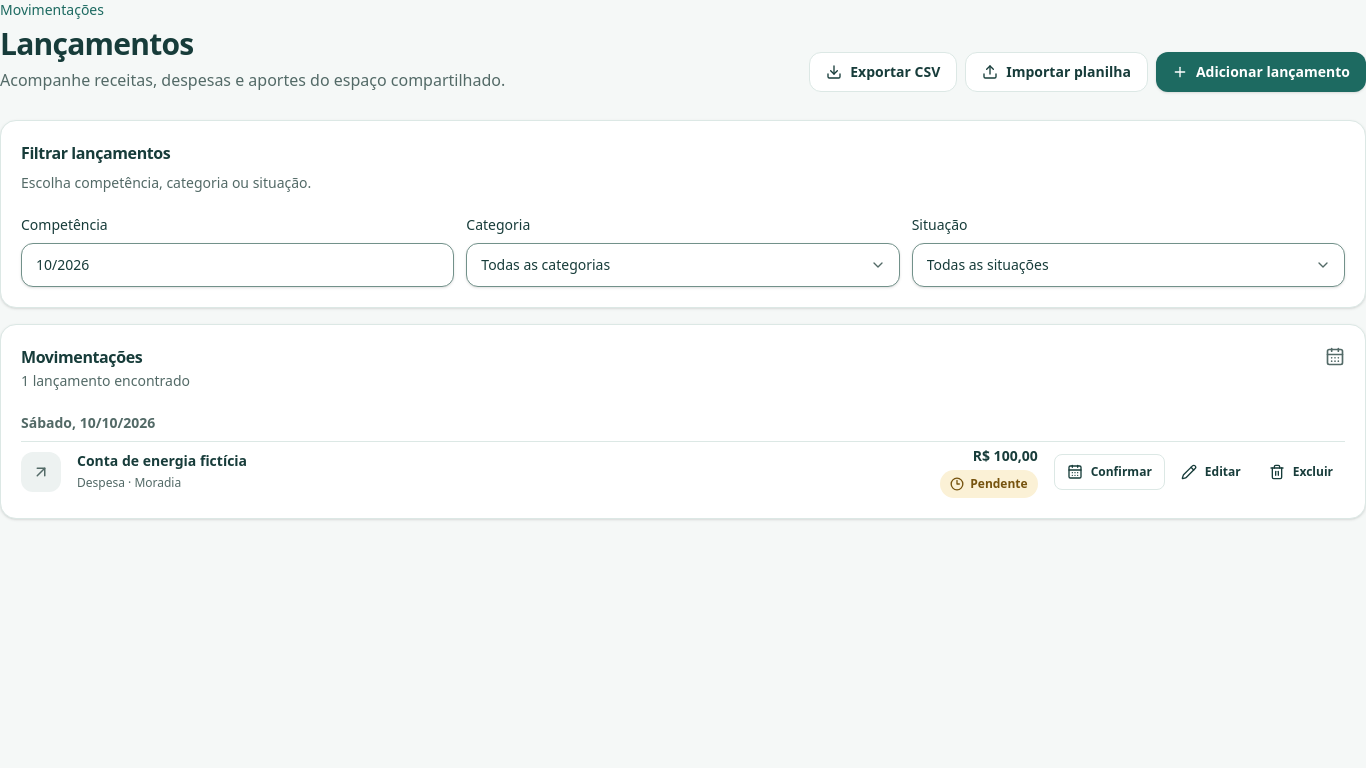
Scenario: entries action feedback › announces a deletion without offering undo, because the original cannot be recreated
Step 1. Click the button with aria-label "Excluir Conta de energia fictícia" → (1301, 472), box [1257,454,1345,490]
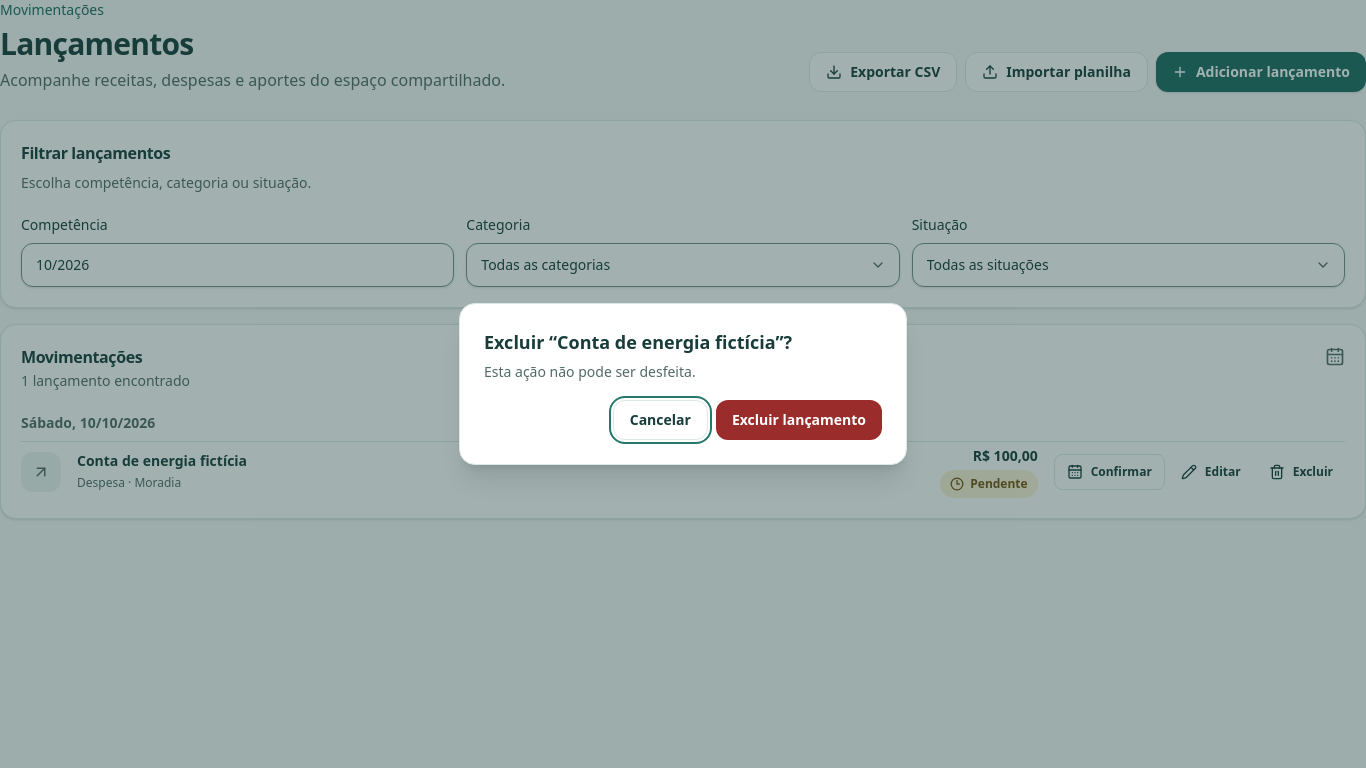
Step 2. Click the button "Excluir lançamento" → (799, 420), box [716,400,882,440]
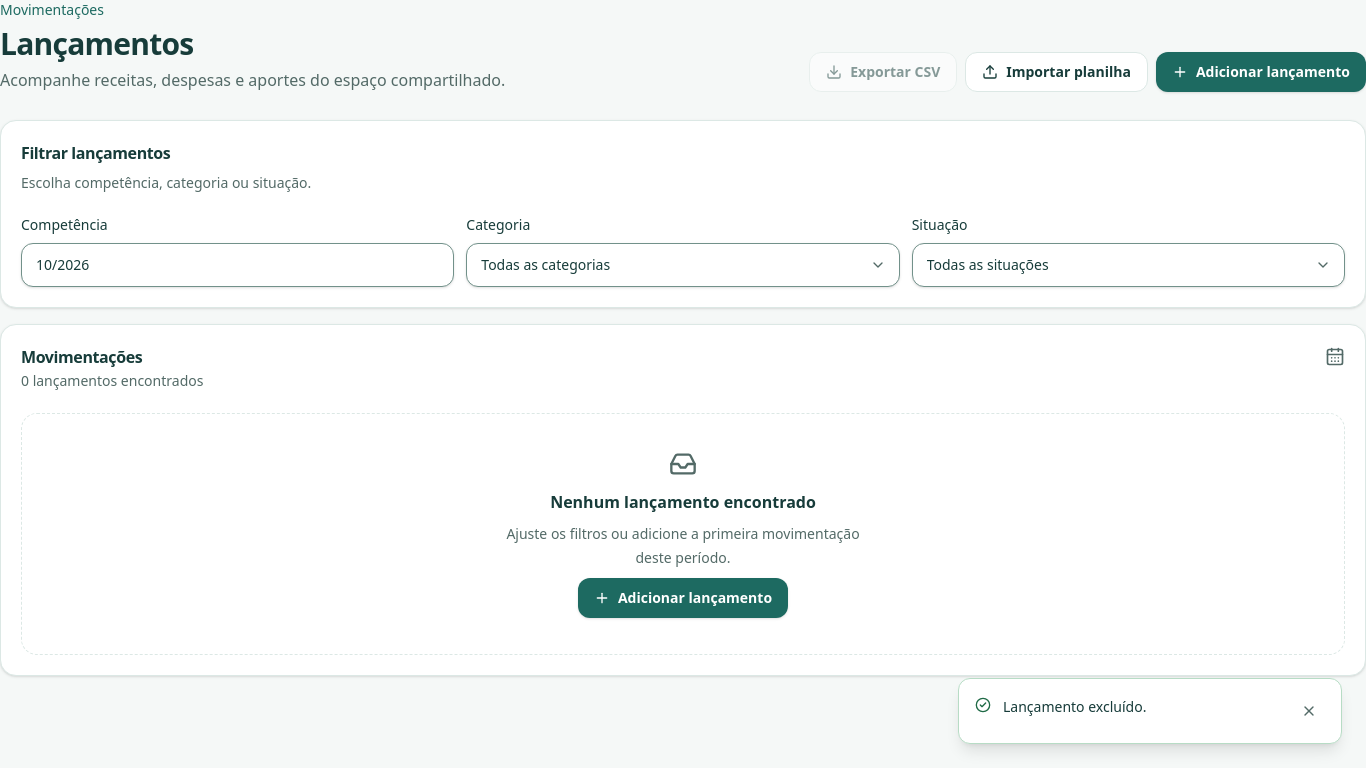
Result: the text "Lançamento excluído." is shown at [1003,697,1146,716]
